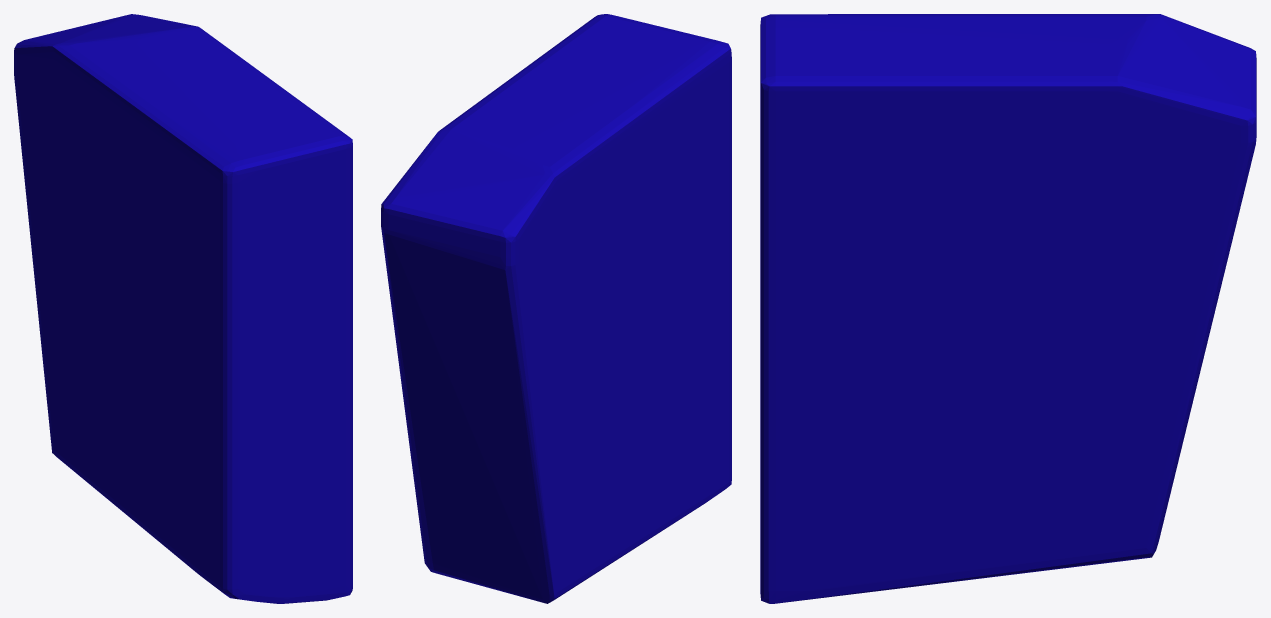
Rendered from right_f_proximal_part_5.obj.
3 renders of one model, left to right at view 1: azimuth 30°, elevation 25°; view 2: azimuth 150°, elevation 25°; view 3: azimuth 270°, elevation 25°, orthographic. The views are drawn at different scales.
Bounding box in the file's own units: 5.32 × 17.83 × 15.31.
